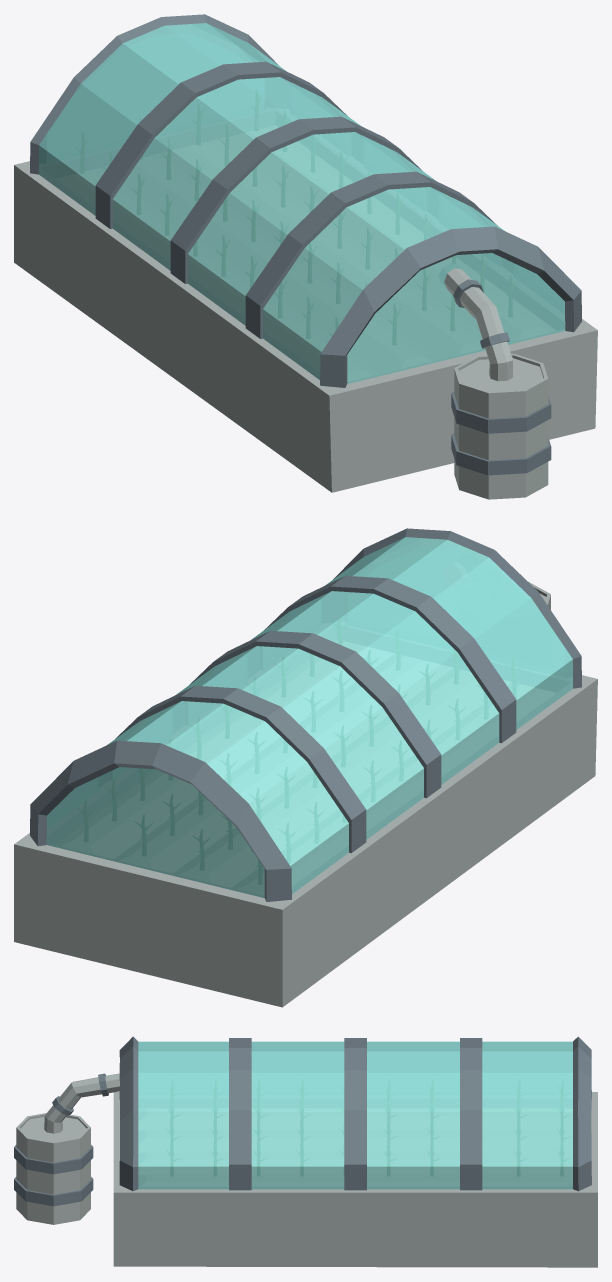
File: GardenBed_1_Green 2.fbx
3 views of the same model, one above another, from view 1: azimuth 30°, elevation 25°; view 2: azimuth 150°, elevation 25°; view 3: azimuth 270°, elevation 25° (orthographic). The views are drawn at different scales.
Parts seen in each view (by area): view 1: GreenHouse1.002, GreenHouse1; view 2: GreenHouse1.002, GreenHouse1; view 3: GreenHouse1.002, GreenHouse1.
Boxes of the visible parts, x1,y1,x2,y2 form: GreenHouse1.002: (30,14,581,499); GreenHouse1: (14,161,597,492); GreenHouse1.002: (30,528,581,901); GreenHouse1: (14,675,597,1007); GreenHouse1.002: (14,1036,591,1224); GreenHouse1: (113,1092,597,1267).
Size of the model in its own units: 200 by 158 by 490.
